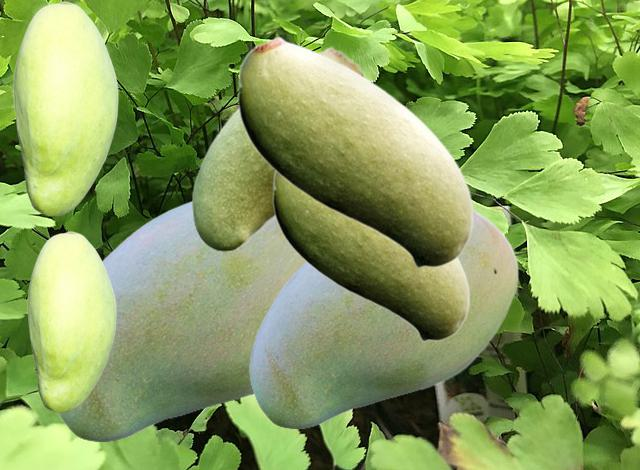green_mango: (56, 199, 303, 440), (249, 208, 518, 427), (237, 35, 473, 268), (191, 46, 366, 250), (272, 172, 469, 341), (13, 1, 117, 215), (27, 231, 115, 412)
